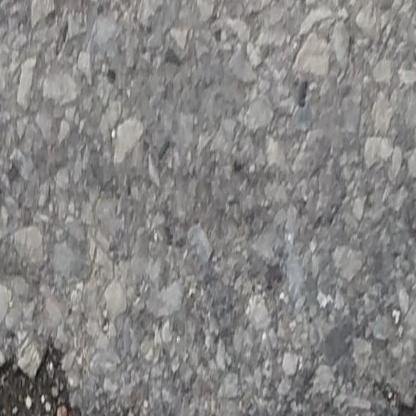Cracks: (0, 335, 136, 416), (273, 396, 416, 416)
